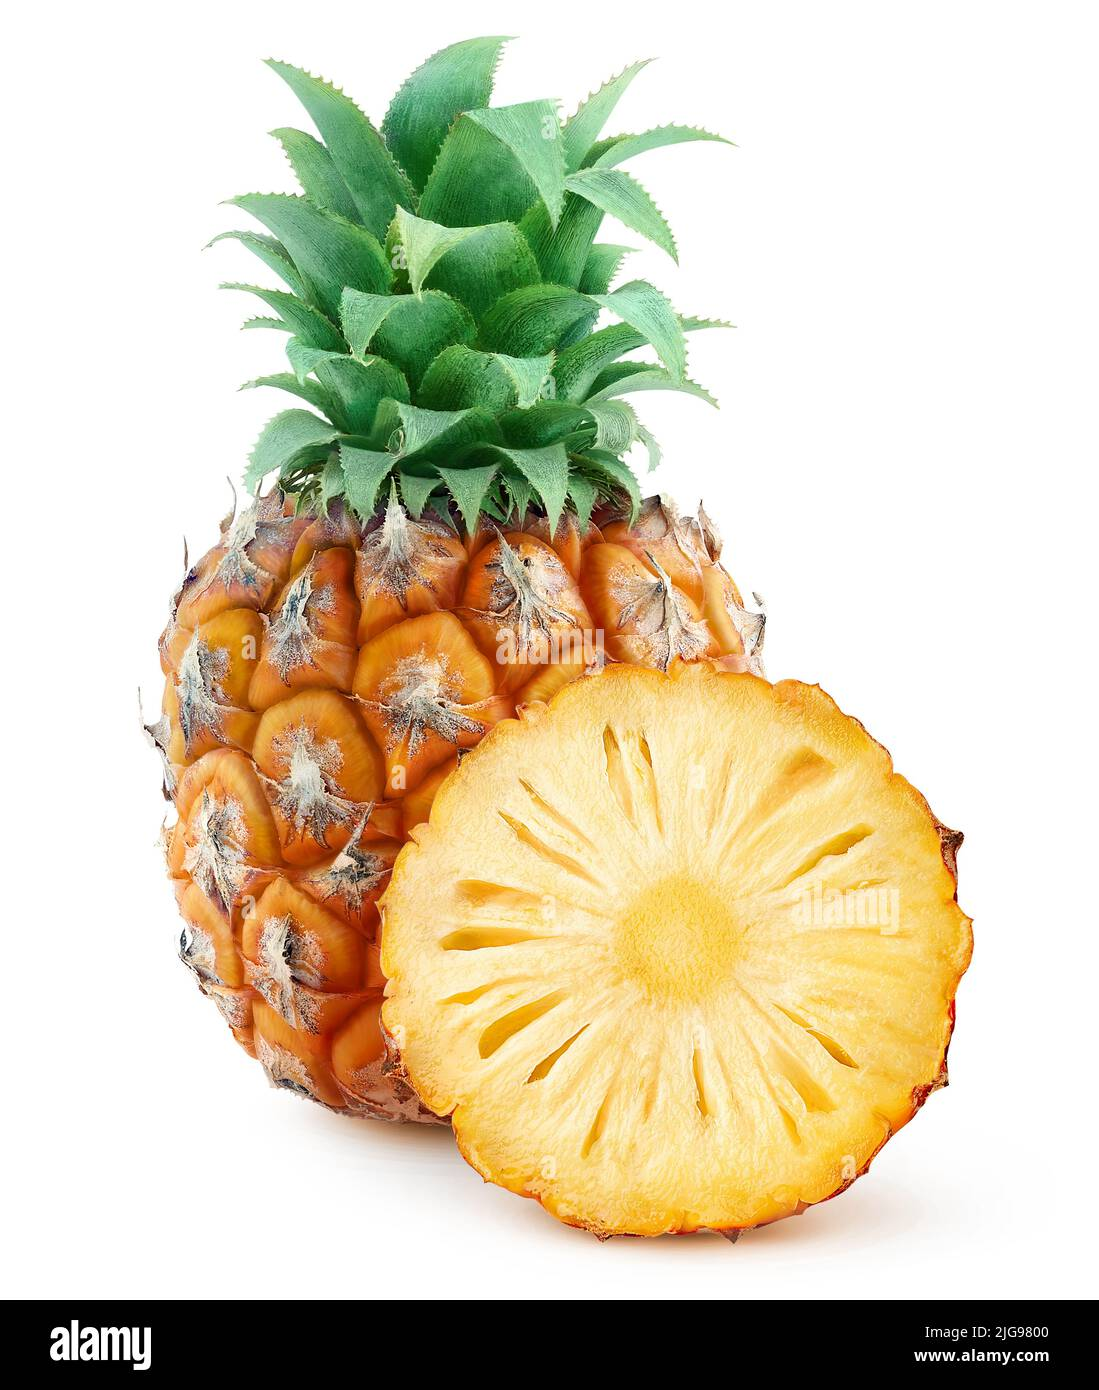pineapple: (415, 646, 1021, 1260)
